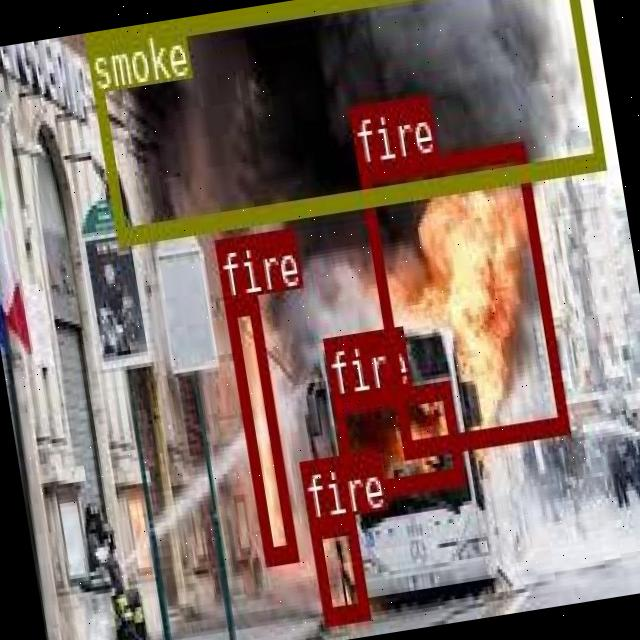fire: (358, 138, 568, 454), (222, 295, 296, 564), (332, 380, 464, 501), (307, 512, 369, 622)
smoke: (84, 0, 602, 240)
